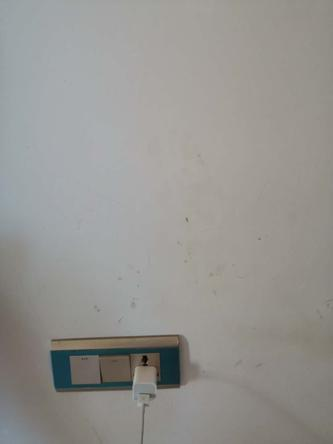switch: (66, 355, 100, 385), (99, 356, 134, 383)
